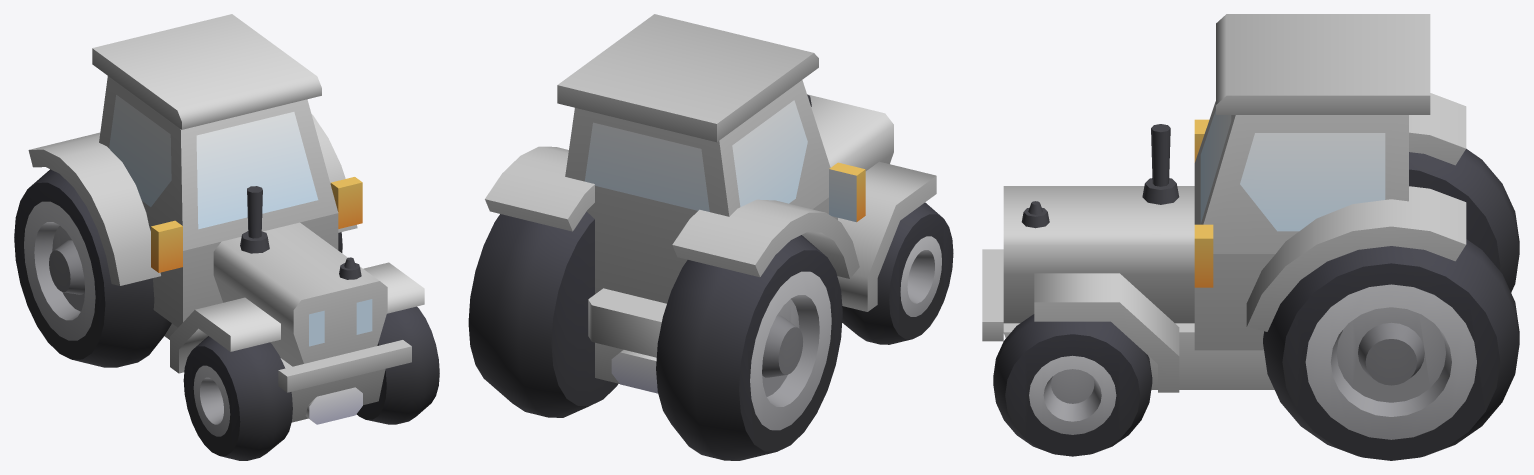
File: tractor.glb
The picture shows the model from 3 angles, left to right: view 1: azimuth 30°, elevation 25°; view 2: azimuth 150°, elevation 25°; view 3: azimuth 270°, elevation 25°; orthographic projection. The views are drawn at different scales.
Visible parts, largest first — view 1: body, wheel-back-right, roof, glass, fenders, wheel-front-right, details, wheel-front-left; view 2: wheel-back-right, body, wheel-back-left, roof, fenders, glass, wheel-front-right, details; view 3: body, wheel-back-left, roof, fenders, wheel-front-left, glass, wheel-back-right, details.
Boxes of the visible parts, <box> form: body: <box>99,76,411,422</box>; wheel-back-right: <box>14,169,171,367</box>; roof: <box>92,14,321,129</box>; glass: <box>109,95,372,346</box>; fenders: <box>28,114,424,351</box>; wheel-front-right: <box>183,336,292,460</box>; details: <box>151,177,362,424</box>; wheel-front-left: <box>356,306,439,424</box>; wheel-back-right: <box>656,235,842,460</box>; body: <box>565,80,893,383</box>; wheel-back-left: <box>468,211,618,417</box>; roof: <box>557,14,818,142</box>; fenders: <box>485,146,936,278</box>; glass: <box>584,100,856,221</box>; wheel-front-right: <box>842,202,953,344</box>; details: <box>611,94,865,393</box>; body: <box>982,101,1465,392</box>; wheel-back-left: <box>1263,239,1519,460</box>; roof: <box>1216,14,1430,114</box>; fenders: <box>1034,93,1466,363</box>; wheel-front-left: <box>993,314,1152,456</box>; glass: <box>1200,110,1385,231</box>; wheel-back-right: <box>1409,148,1519,292</box>; details: <box>1021,119,1213,287</box>.
Size of the model in its own units: 1.34 by 1.6 by 2.2.
